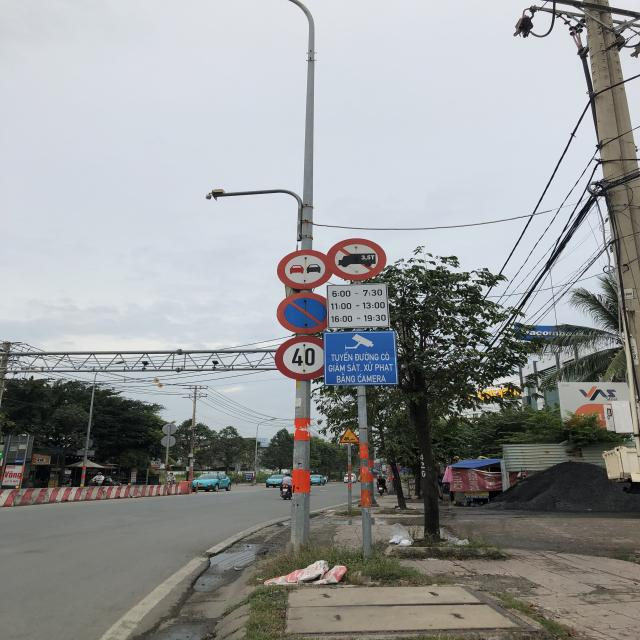Bien bao cam vuot: (276, 248, 334, 291)
